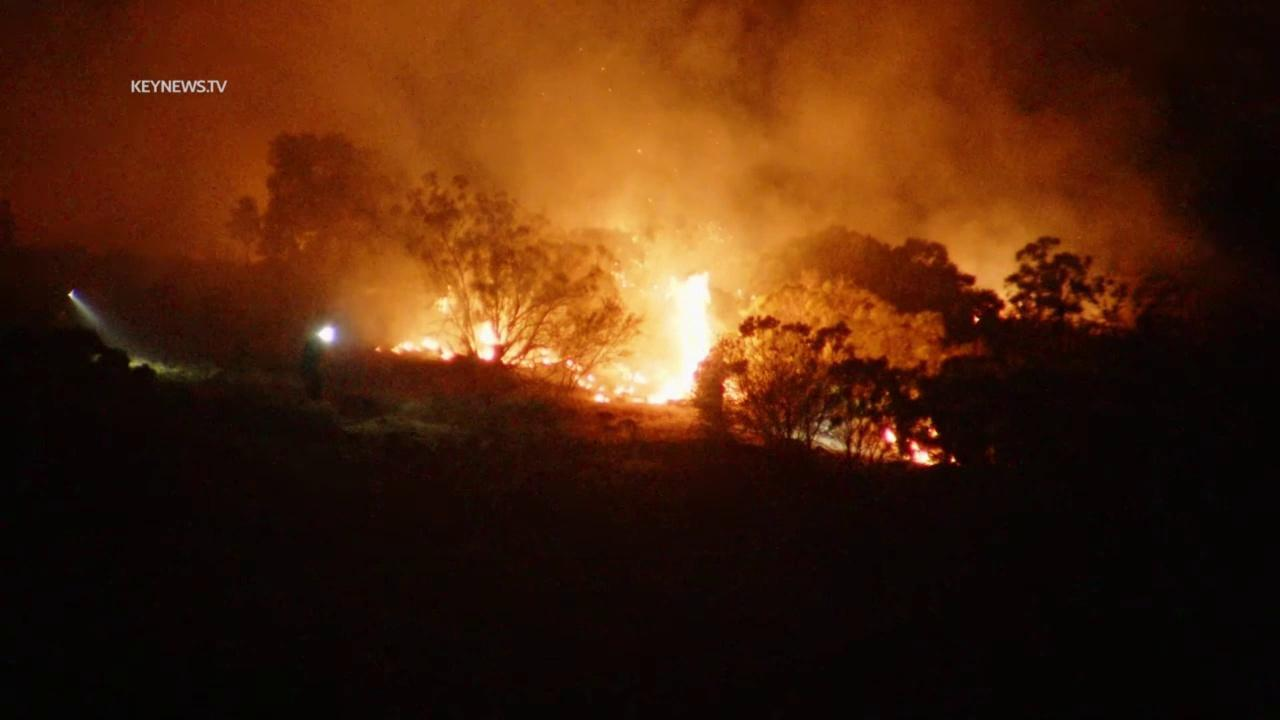fire: (612, 270, 716, 403), (373, 334, 456, 363), (469, 318, 506, 362), (904, 437, 945, 469), (568, 358, 596, 389), (437, 293, 452, 315), (882, 427, 899, 445), (538, 347, 554, 366), (594, 384, 609, 403), (927, 425, 939, 439), (949, 454, 960, 467), (971, 313, 981, 325)
smoke: (0, 0, 1228, 411)
